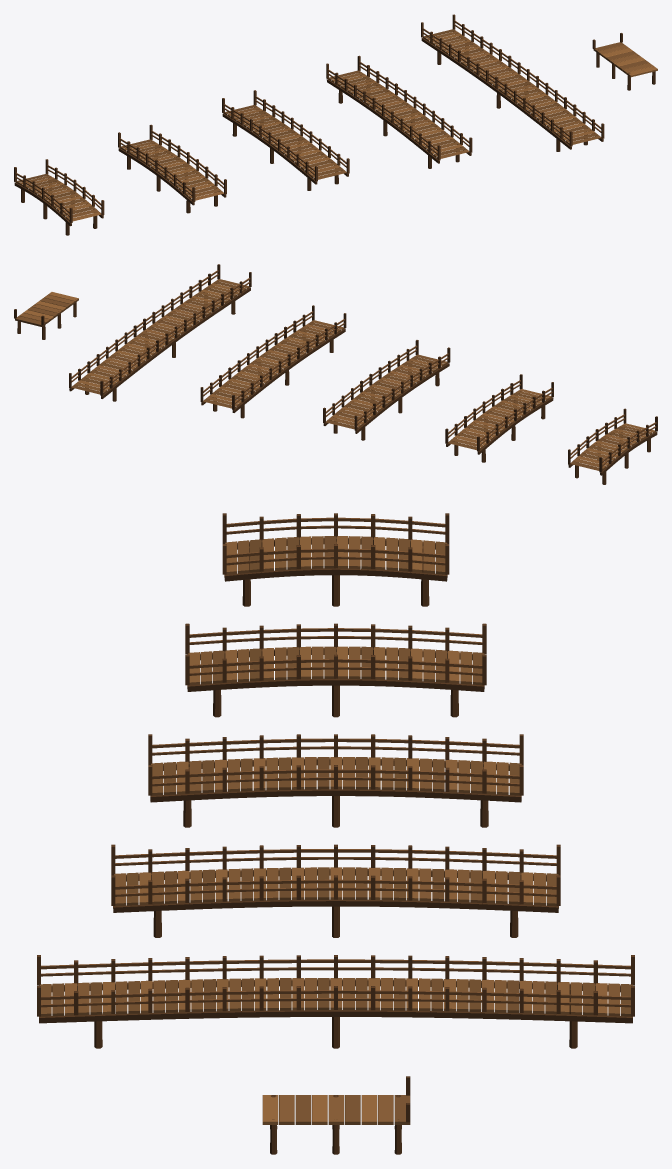
The model's file is crossings.glb.
3 views of the same model, one above another, from view 1: azimuth 30°, elevation 25°; view 2: azimuth 150°, elevation 25°; view 3: azimuth 270°, elevation 25° (orthographic). The views are drawn at different scales.
Parts seen in each view (by area): view 1: bridge_8, bridge_6, bridge_5, bridge_4, bridge_3, dock; view 2: bridge_8, bridge_6, bridge_5, bridge_4, bridge_3, dock; view 3: bridge_8, bridge_6, bridge_5, bridge_4, bridge_3, dock.
Part boxes in pixels (x1=…): bridge_8: x1=421, y1=14, x2=604, y2=151; bridge_6: x1=326, y1=55, x2=472, y2=168; bridge_5: x1=222, y1=90, x2=349, y2=190; bridge_4: x1=118, y1=124, x2=226, y2=213; bridge_3: x1=14, y1=159, x2=104, y2=235; dock: x1=592, y1=33, x2=657, y2=90; bridge_8: x1=69, y1=264, x2=251, y2=401; bridge_6: x1=200, y1=305, x2=346, y2=418; bridge_5: x1=323, y1=340, x2=450, y2=440; bridge_4: x1=445, y1=374, x2=553, y2=462; bridge_3: x1=568, y1=408, x2=657, y2=484; dock: x1=14, y1=292, x2=78, y2=339; bridge_8: x1=37, y1=955, x2=634, y2=1048; bridge_6: x1=111, y1=844, x2=560, y2=937; bridge_5: x1=148, y1=734, x2=523, y2=827; bridge_4: x1=185, y1=623, x2=486, y2=717; bridge_3: x1=222, y1=513, x2=449, y2=606; dock: x1=262, y1=1076, x2=410, y2=1154.
Size of the model in its own units: 23.22 by 1.16 by 10.07.
